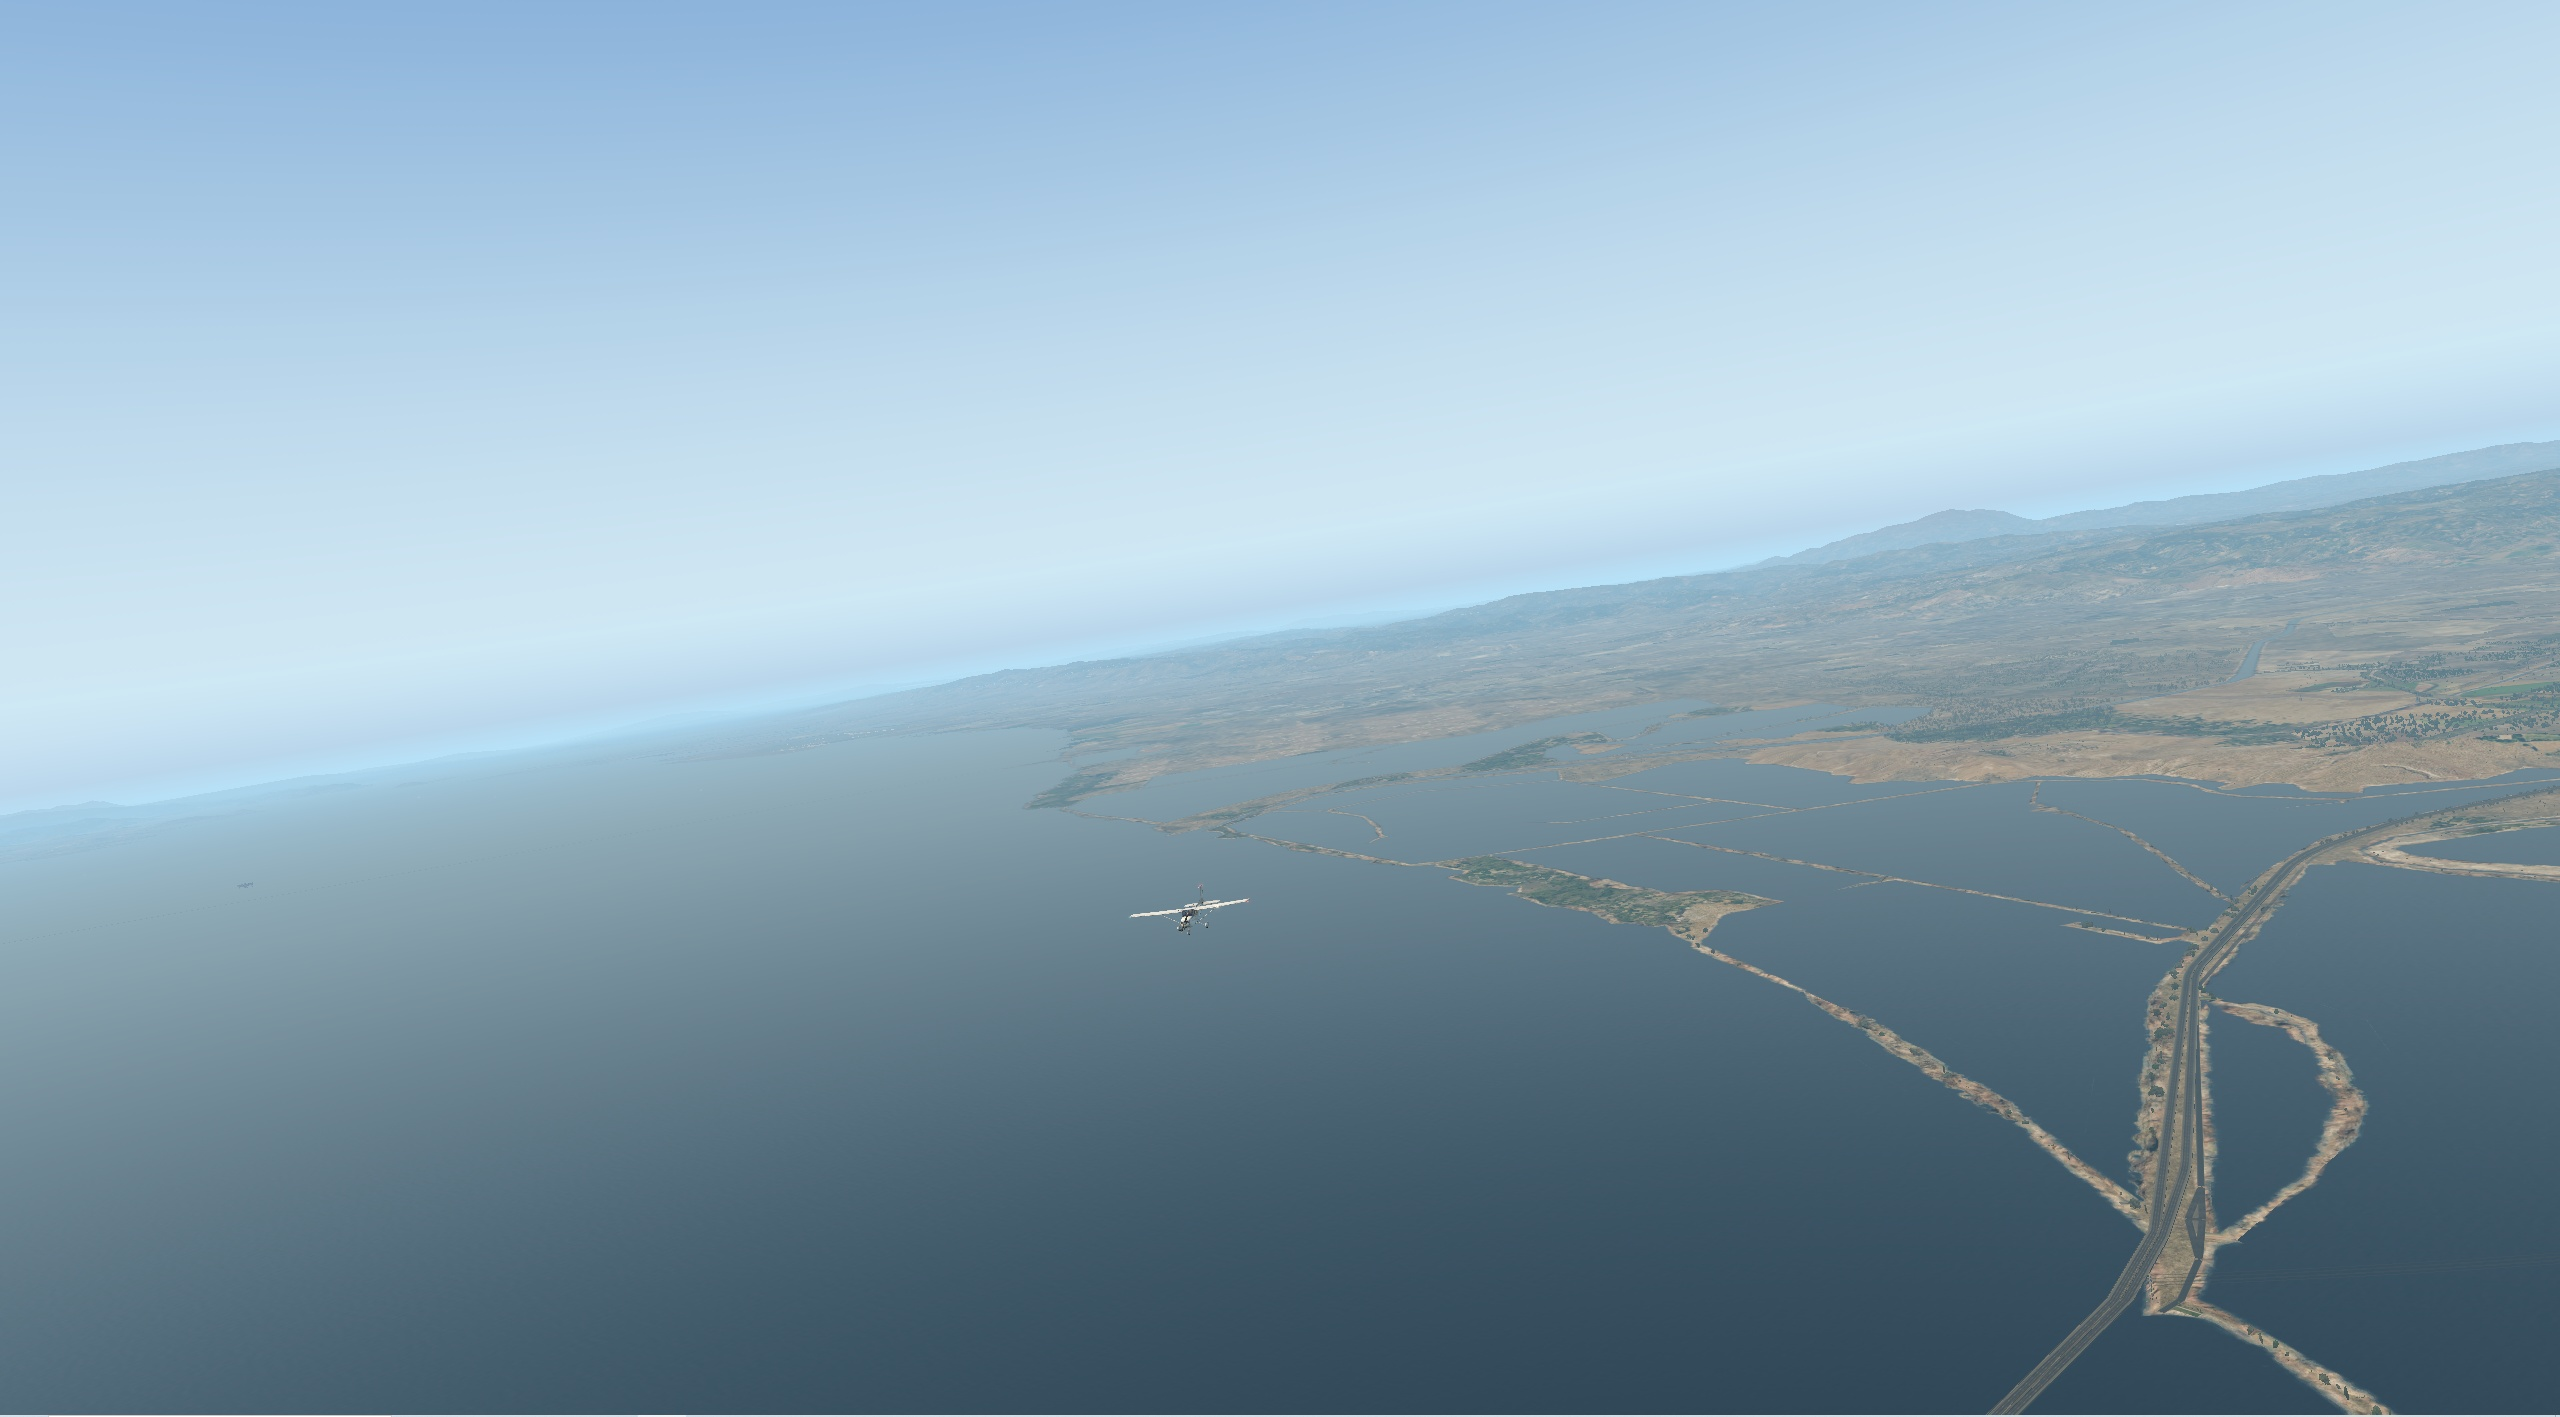aircraft: (1117, 888, 1263, 944)
